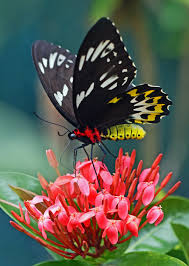butterfly: (29, 22, 174, 152)
flower: (18, 156, 185, 266)
